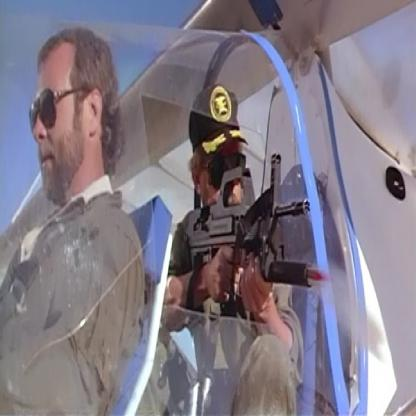Gun: (173, 147, 331, 324)
